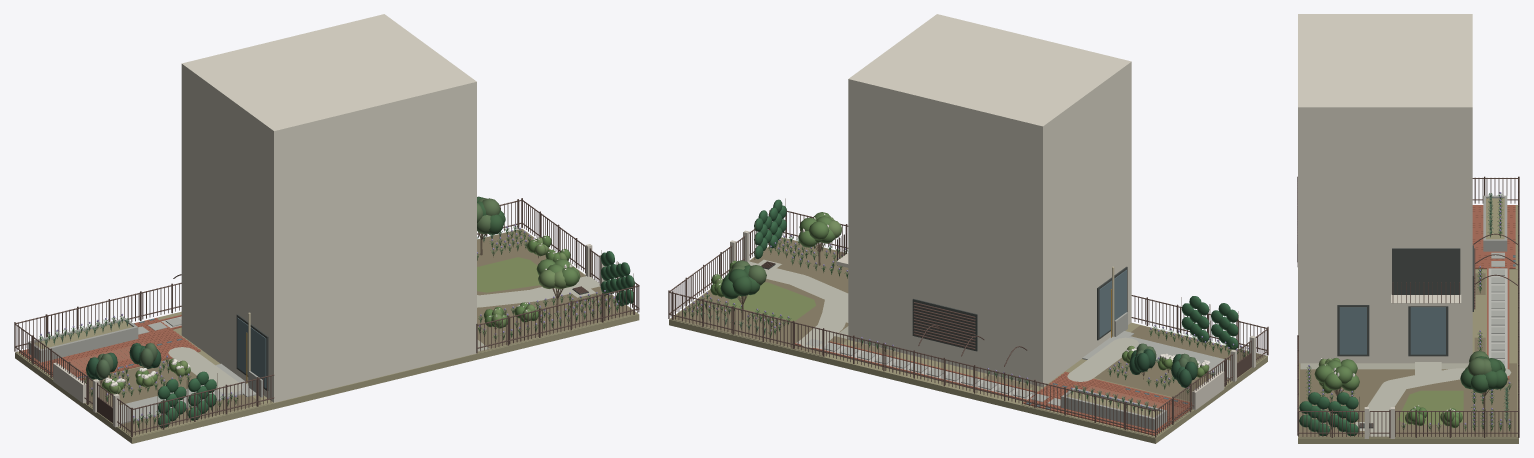
The model's file is garden.glb.
3 renders of one model, left to right at view 1: azimuth 30°, elevation 25°; view 2: azimuth 150°, elevation 25°; view 3: azimuth 270°, elevation 25°, orthographic. The views are drawn at different scales.
Visible parts, largest first — view 1: Unsurveyed_Building_Mass, Boundary_Fences_Approximate_metal, R0_Flat_Datum, S-west-border, Footprint_Proxy_Unsurveyed, Proposed_Planting_Beds_And_Mulch, Red_Brick_Joints_Indicative_brick, Leaves_N14_Foliage_TJ, S-lawn, N-woodland, Visible_planter_Openings_glass, S-main_New_Warm_Grey_Paving (+12 smaller); view 2: Unsurveyed_Building_Mass, Boundary_Fences_Approximate_metal, R0_Flat_Datum, Proposed_Planting_Beds_And_Mulch, Red_Brick_Joints_Indicative_brick, S-east-border, Footprint_Proxy_Unsurveyed, S-lawn, Leaves_N14_Foliage_TJ, S-west-border, Wall_Services_Visible_Proxies_dark, S-main_New_Warm_Grey_Paving (+18 smaller); view 3: Unsurveyed_Building_Mass, Visible_bare_Openings_dark, Boundary_Fences_Approximate_metal, Proposed_Planting_Beds_And_Mulch, Visible_bare_Openings_glass, R0_Flat_Datum, S-east-border, S-main_New_Warm_Grey_Paving, Leaves_S07_Foliage_TJ, Red_Brick_Joints_Indicative_brick, S-lawn, Zone_3_Steps_And_Gravel_slab (+19 smaller).
Boxes of the visible parts, box(x1,y1,x2,y2) form: Unsurveyed_Building_Mass: box(181, 14, 476, 394); Boundary_Fences_Approximate_metal: box(14, 198, 639, 437); R0_Flat_Datum: box(15, 231, 639, 443); S-west-border: box(477, 293, 632, 346); Footprint_Proxy_Unsurveyed: box(181, 327, 476, 402); Proposed_Planting_Beds_And_Mulch: box(83, 229, 636, 435); Red_Brick_Joints_Indicative_brick: box(20, 318, 200, 379); Leaves_N14_Foliage_TJ: box(158, 371, 216, 427); S-lawn: box(477, 257, 539, 292); N-woodland: box(85, 362, 196, 403); Visible_planter_Openings_glass: box(237, 317, 266, 388); S-main_New_Warm_Grey_Paving: box(477, 276, 600, 307); Unsurveyed_Building_Mass: box(848, 14, 1131, 378); Boundary_Fences_Approximate_metal: box(668, 209, 1268, 437); R0_Flat_Datum: box(669, 247, 1267, 443); Proposed_Planting_Beds_And_Mulch: box(673, 237, 1263, 401); Red_Brick_Joints_Indicative_brick: box(1023, 371, 1191, 434); S-east-border: box(676, 292, 790, 341); Footprint_Proxy_Unsurveyed: box(848, 314, 1131, 387); S-lawn: box(729, 282, 815, 321); Leaves_N14_Foliage_TJ: box(1181, 296, 1238, 349); S-west-border: box(759, 239, 848, 280); Wall_Services_Visible_Proxies_dark: box(912, 298, 977, 351); S-main_New_Warm_Grey_Paving: box(748, 261, 848, 322); Unsurveyed_Building_Mass: box(1298, 14, 1472, 355); Visible_bare_Openings_dark: box(1337, 248, 1460, 356); Boundary_Fences_Approximate_metal: box(1297, 176, 1519, 437); Proposed_Planting_Beds_And_Mulch: box(1300, 363, 1516, 436); Visible_bare_Openings_glass: box(1339, 307, 1445, 354); R0_Flat_Datum: box(1298, 270, 1518, 443); S-east-border: box(1397, 389, 1514, 435); S-main_New_Warm_Grey_Paving: box(1367, 362, 1441, 436); Leaves_S07_Foliage_TJ: box(1299, 392, 1358, 435); Red_Brick_Joints_Indicative_brick: box(1472, 205, 1515, 268); S-lawn: box(1397, 390, 1463, 424); Zone_3_Steps_And_Gravel_slab: box(1491, 252, 1504, 366).
Size of what is drawn, in the model's own units: 25.22 by 13.1 by 10.06.
